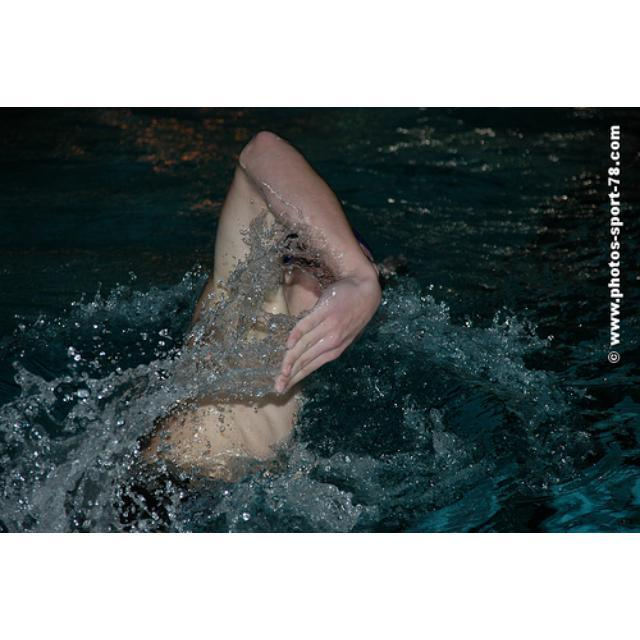human: (123, 128, 387, 481)
